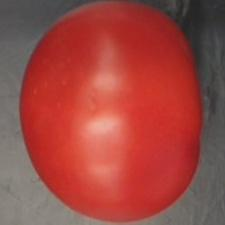unripe: (15, 0, 207, 225)
